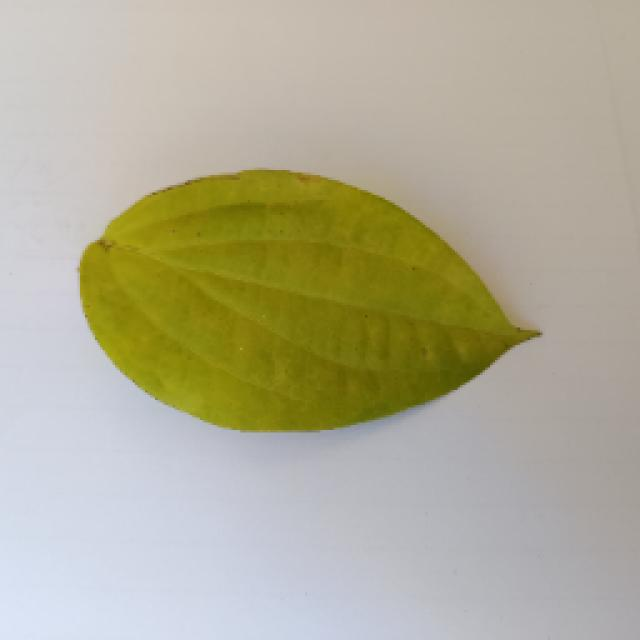slow-decline: (65, 153, 553, 435)
